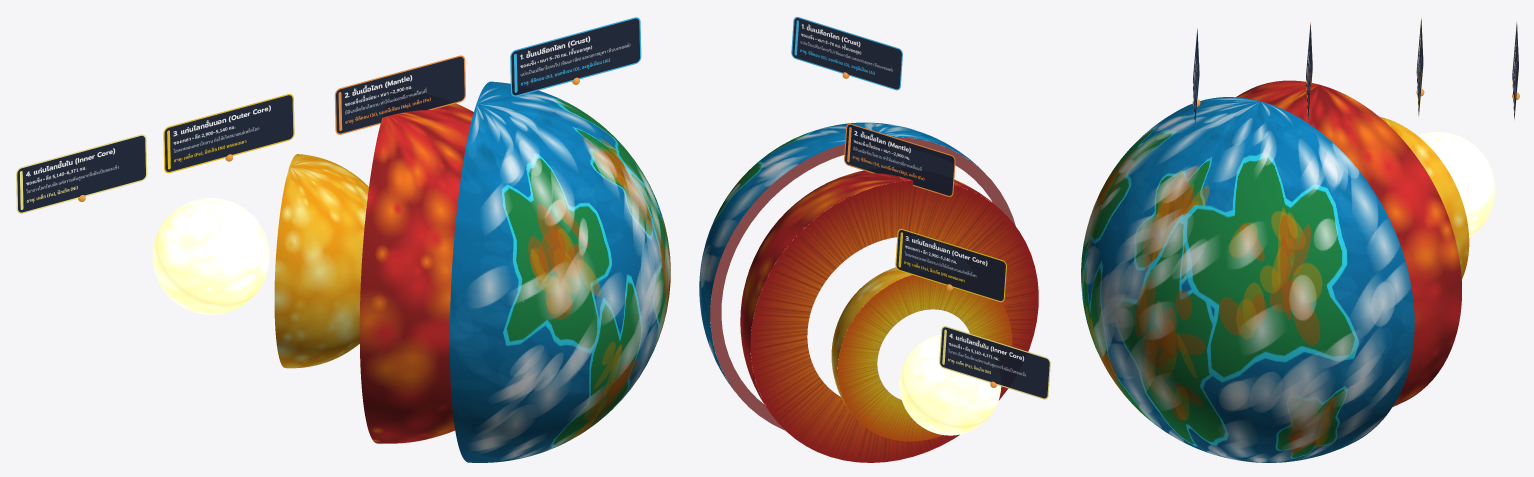
3 renders of one model, left to right at view 1: azimuth 30°, elevation 25°; view 2: azimuth 150°, elevation 25°; view 3: azimuth 270°, elevation 25°, orthographic. The views are drawn at different scales.
Parts seen in each view (by area): view 1: 1_Crust_เปลือกโลก, 2_Mantle_เนื้อโลก, 3_OuterCore_แก่นโลกชั้นนอก, 4_InnerCore_แก่นโลกชั้นใน; view 2: 2_Mantle_เนื้อโลก, 3_OuterCore_แก่นโลกชั้นนอก, 1_Crust_เปลือกโลก, 4_InnerCore_แก่นโลกชั้นใน; view 3: 1_Crust_เปลือกโลก, 2_Mantle_เนื้อโลก, 4_InnerCore_แก่นโลกชั้นใน, 3_OuterCore_แก่นโลกชั้นนอก.
Boxes of the visible parts, x1=… form: 1_Crust_เปลือกโลก: x1=449, y1=17, x2=670, y2=462; 2_Mantle_เนื้อโลก: x1=334, y1=55, x2=473, y2=443; 3_OuterCore_แก่นโลกชั้นนอก: x1=163, y1=94, x2=368, y2=368; 4_InnerCore_แก่นโลกชั้นใน: x1=16, y1=134, x2=269, y2=314; 2_Mantle_เนื้อโลก: x1=740, y1=123, x2=1038, y2=462; 3_OuterCore_แก่นโลกชั้นนอก: x1=831, y1=229, x2=1012, y2=441; 1_Crust_เปลือกโลก: x1=699, y1=17, x2=1015, y2=430; 4_InnerCore_แก่นโลกชั้นใน: x1=899, y1=326, x2=1050, y2=435; 1_Crust_เปลือกโลก: x1=1081, y1=28, x2=1414, y2=462; 2_Mantle_เนื้อโลก: x1=1236, y1=22, x2=1461, y2=406; 4_InnerCore_แก่นโลกชั้นใน: x1=1418, y1=21, x2=1519, y2=237; 3_OuterCore_แก่นโลกชั้นนอก: x1=1379, y1=18, x2=1469, y2=279.
Bounding box in the file's own units: 7.18 × 5.84 × 5.49.
22 materials, 14 textured.
